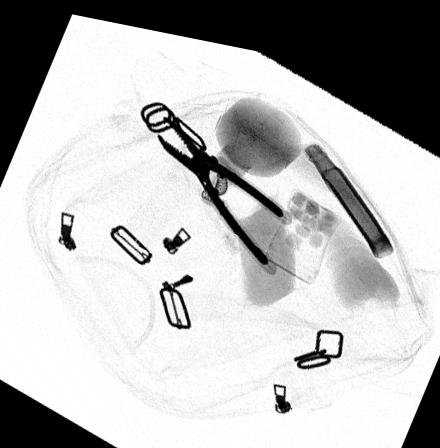Pliers: (154, 107, 283, 255)
